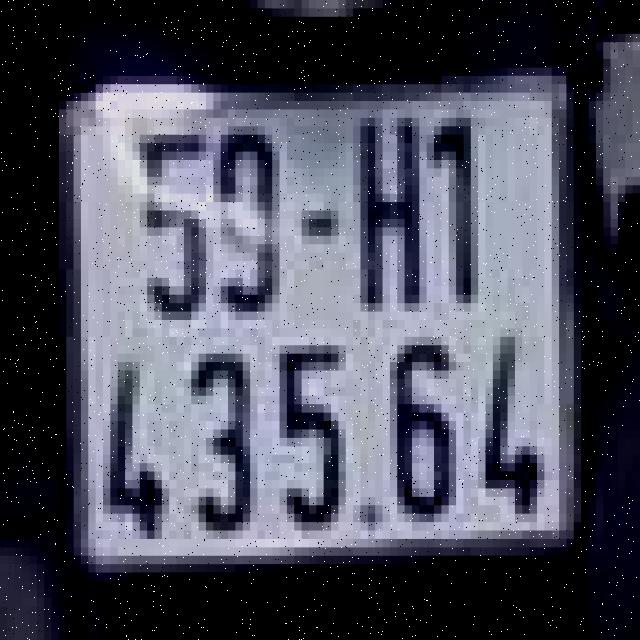1: (427, 101, 508, 312)
3: (184, 341, 257, 543)
4: (471, 320, 559, 522), (107, 354, 173, 547)
5: (110, 126, 214, 328), (272, 337, 361, 530)
6: (390, 333, 463, 526)
9: (210, 122, 283, 324)
H: (350, 114, 430, 316)
